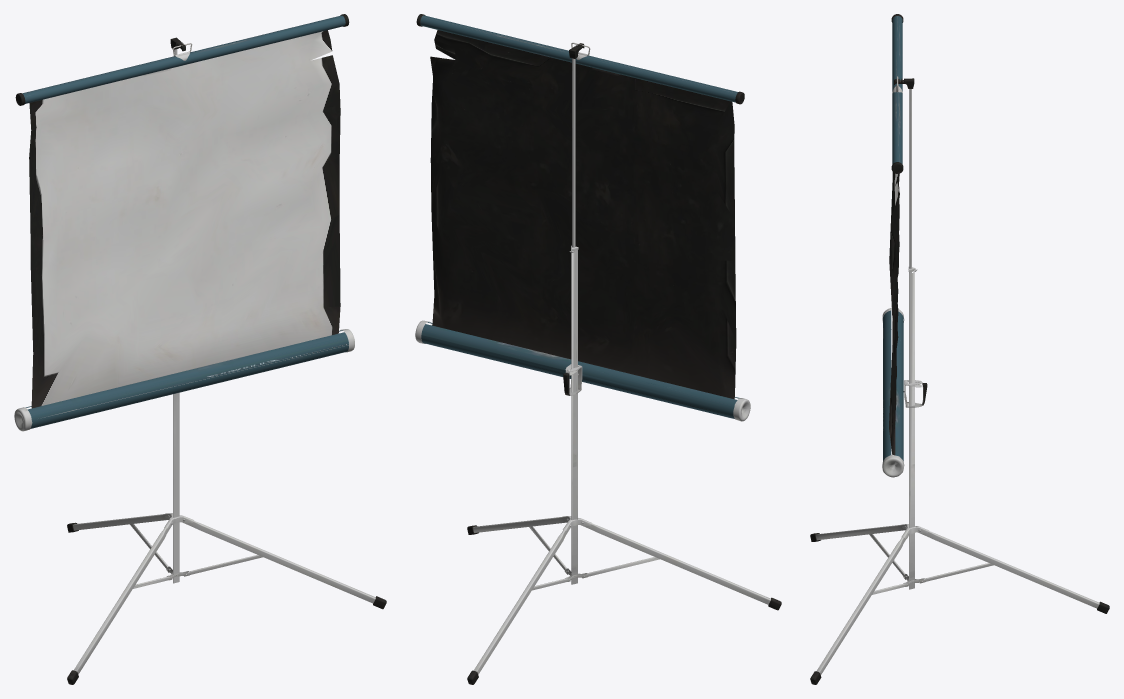
The model's file is projector-screen.glb.
The picture shows the model from 3 angles, left to right: view 1: azimuth 30°, elevation 25°; view 2: azimuth 150°, elevation 25°; view 3: azimuth 270°, elevation 25°; orthographic projection. The views are drawn at different scales.
Visible parts, largest first — view 1: projector_screen; view 2: projector_screen; view 3: projector_screen.
Part boxes in pixels (x1,y1,x2,y2): projector_screen: (14,14,386,684); projector_screen: (415,14,781,684); projector_screen: (810,14,1109,684).
Size of the model in its own units: 1.09 by 1.8 by 0.9159.
2 materials, 2 textured.
